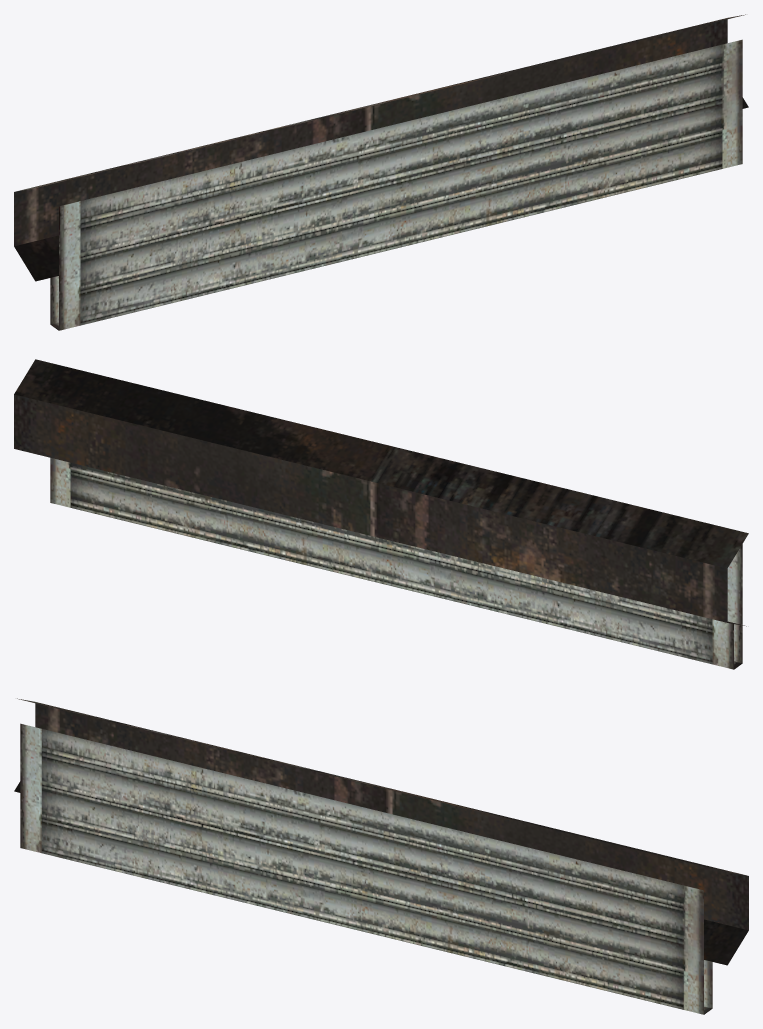
The model's file is raised_metal_door.fbx.
The picture shows the model from 3 angles, top to bottom: view 1: azimuth 30°, elevation 25°; view 2: azimuth 150°, elevation 25°; view 3: azimuth 330°, elevation 25°; orthographic projection.
Visible parts, largest first — view 1: raised_metal_door.001; view 2: raised_metal_door.001; view 3: raised_metal_door.001.
Boxes of the visible parts, box(x1,y1,x2,y2) form: raised_metal_door.001: box(14, 14, 748, 330); raised_metal_door.001: box(14, 359, 748, 669); raised_metal_door.001: box(14, 698, 748, 1014).
Bounding box in the file's own units: 2.45 × 0.459 × 0.1785.
Materials: 2 (2 with a texture image).
